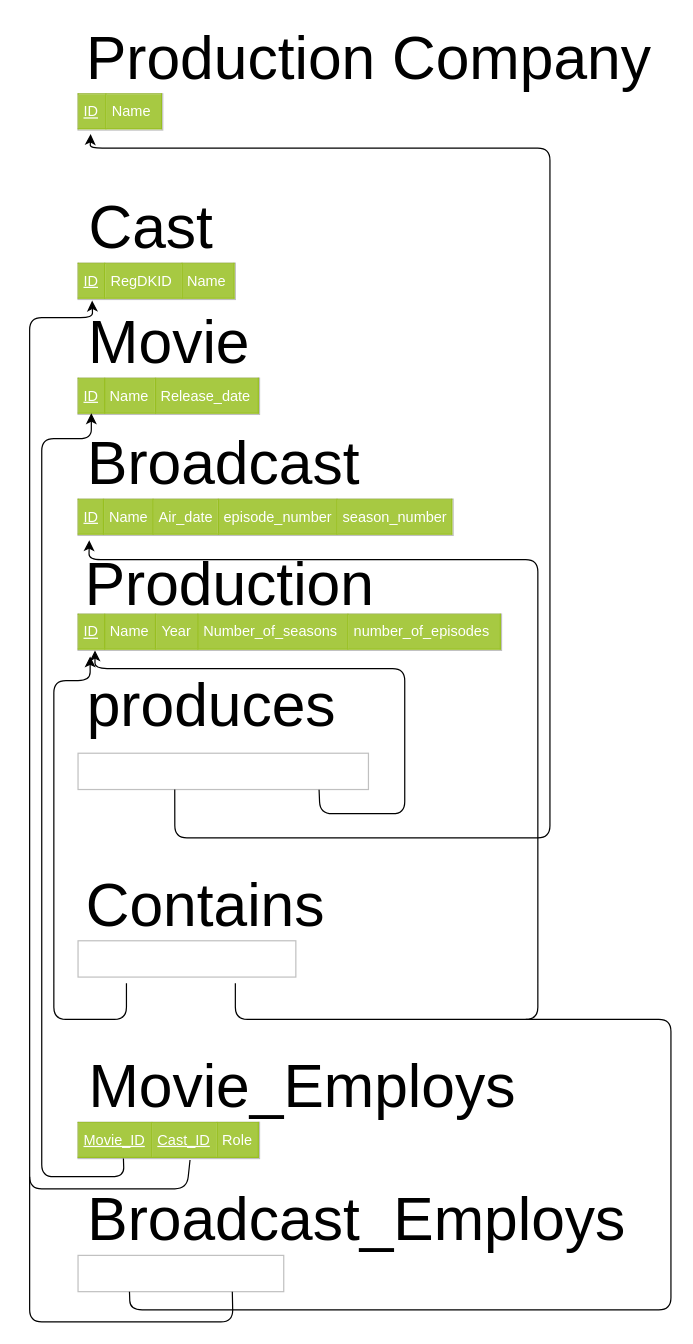
The diagram is 693 pixels wide and 1344 high, and some of its shapes have lost their labels. The shapes that lost their labels are listed below. From the top down, each one's centre as x and y in pixels, then its label:
[222,771]: Production_company_ID Production_ID
[186,958]: Production_ID Broadcast_ID
[180,1273]: Broadcast_ID Cast_ID Role
